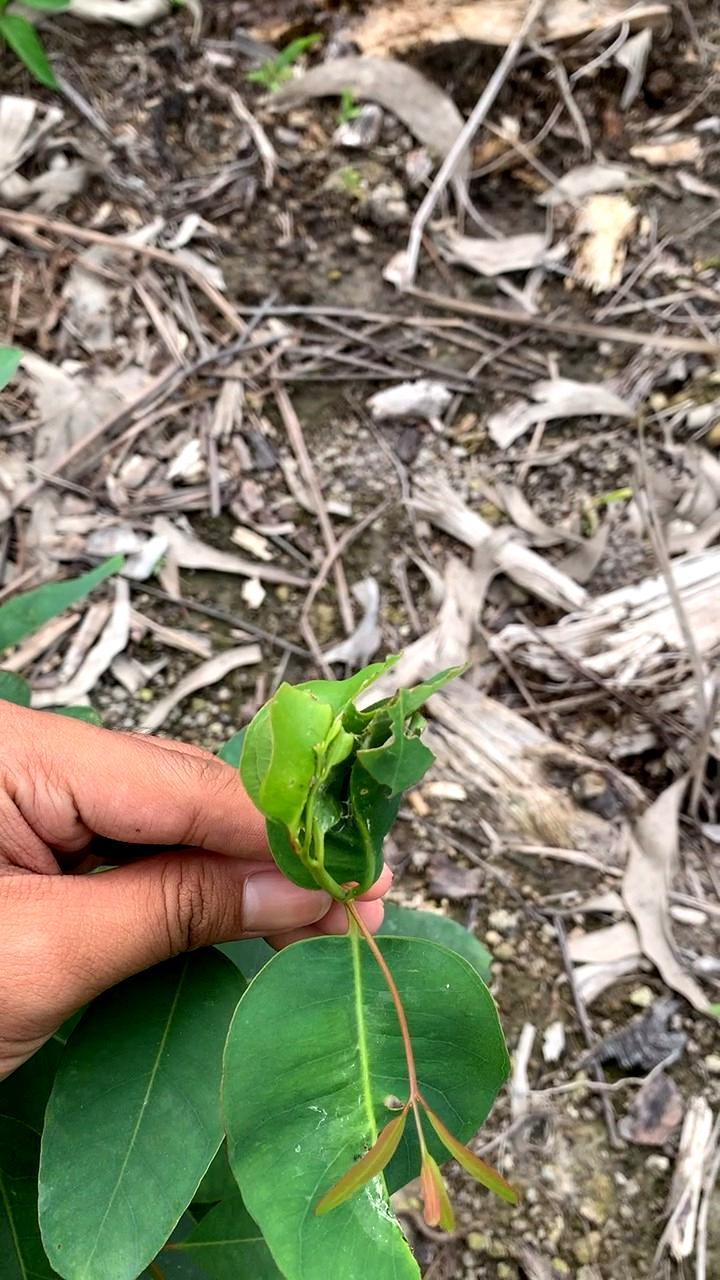Leaf Roller - Leaf: (230, 671, 429, 907)
